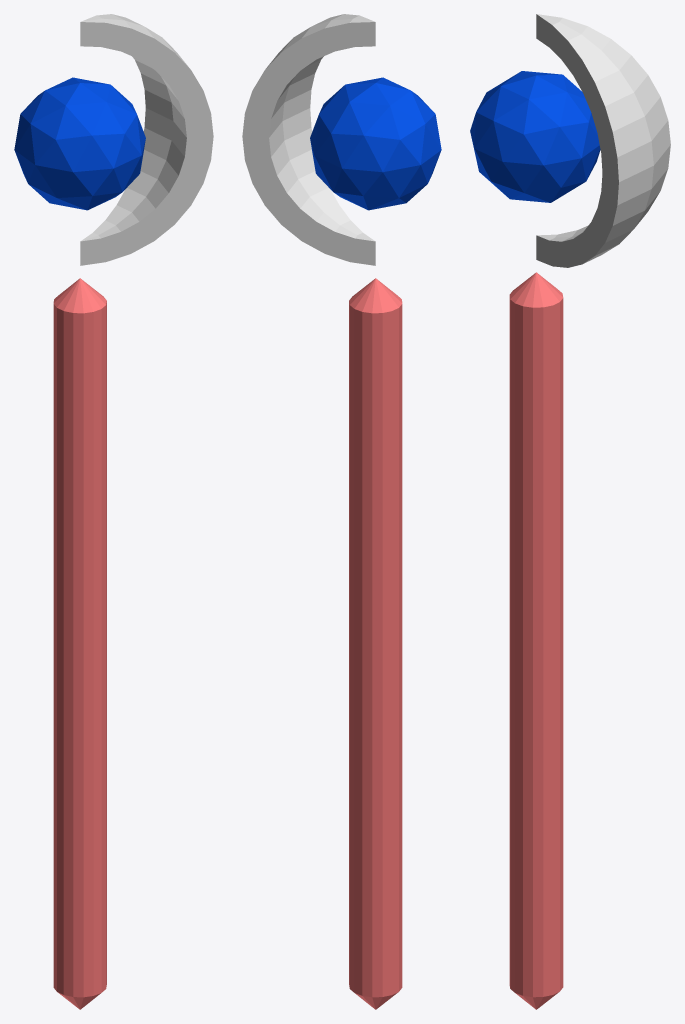
Rendered from RodConcept2.fbx.
3 renders of one model, left to right at view 1: azimuth 30°, elevation 25°; view 2: azimuth 150°, elevation 25°; view 3: azimuth 330°, elevation 25°, orthographic.
Visible parts, largest first — view 1: Cylinder, Sphere.001, Icosphere; view 2: Cylinder, Sphere.001, Icosphere; view 3: Cylinder, Sphere.001, Icosphere.
Part boxes in pixels (x1,y1,x2,y2): Cylinder: (53, 278, 106, 1009); Sphere.001: (80, 14, 213, 265); Icosphere: (14, 77, 145, 210); Cylinder: (349, 278, 402, 1009); Sphere.001: (242, 14, 375, 265); Icosphere: (310, 77, 441, 210); Cylinder: (509, 272, 563, 1009); Sphere.001: (536, 14, 670, 267); Icosphere: (470, 71, 600, 202).
Bounding box in the file's own units: 148 × 810 × 100.
